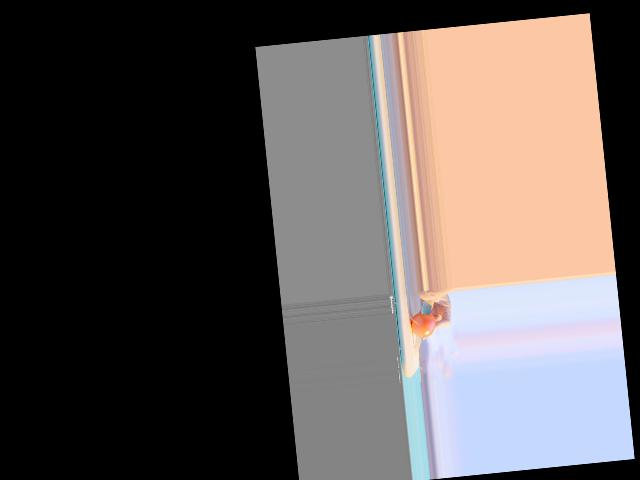tomato: (409, 311, 436, 339)
